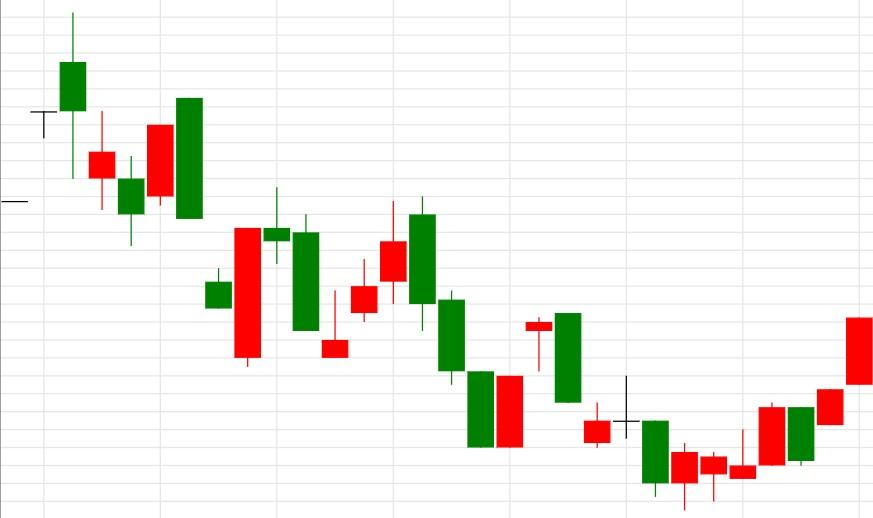bullish_engulfing_rise: (147, 98, 263, 368)
three_black_crows_fall: (320, 195, 495, 448)
three_white_soldiers_rise: (262, 186, 408, 359)
